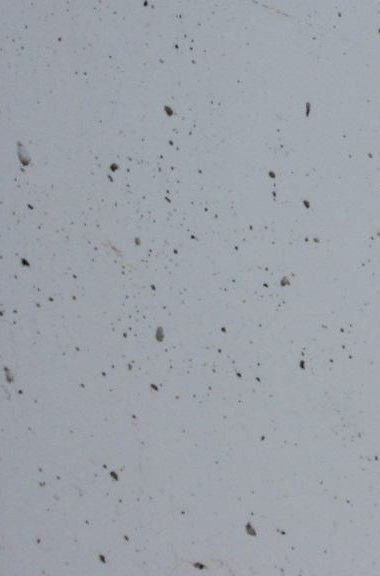Spalling: (1, 1, 380, 576)
